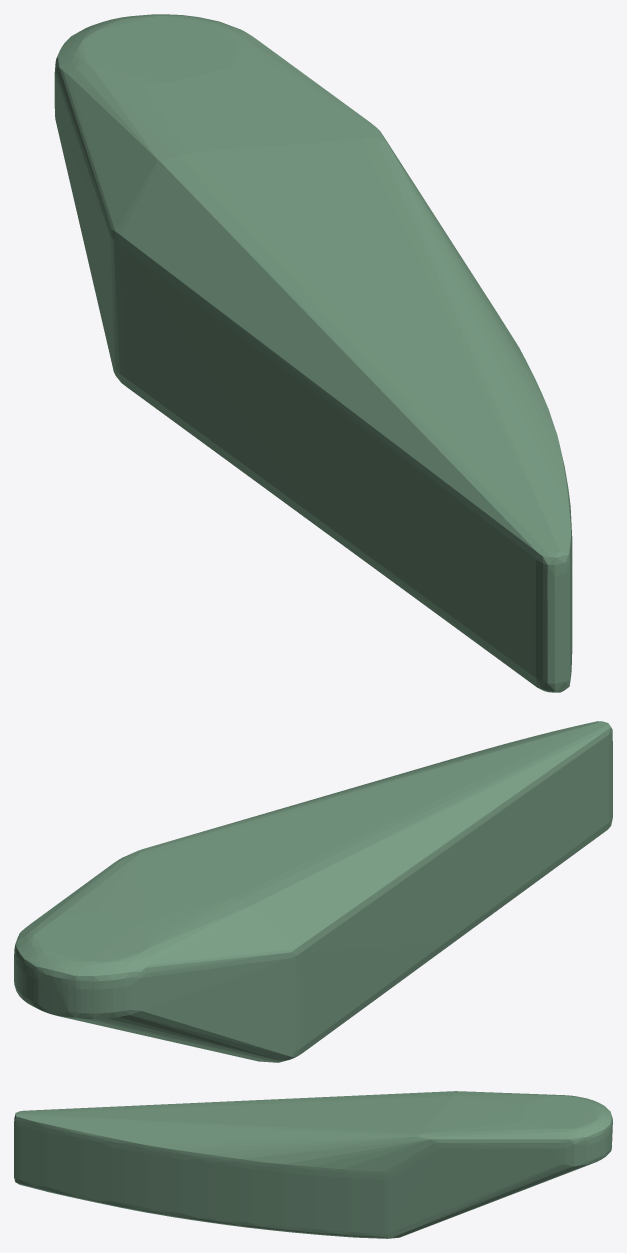
The model's file is gripper_l2.obj.
The picture shows the model from 3 angles, top to bottom: view 1: azimuth 30°, elevation 25°; view 2: azimuth 150°, elevation 25°; view 3: azimuth 270°, elevation 25°; orthographic projection. The views are drawn at different scales.
Visible parts, largest first — view 1: geometry_0; view 2: geometry_0; view 3: geometry_0.
Boxes of the visible parts, x1,y1,x2,y2 form: geometry_0: (54,14,572,692); geometry_0: (14,721,612,1062); geometry_0: (14,1091,612,1238).
Size of the model in its own units: 0.0407 by 0.0327 by 0.1658.
